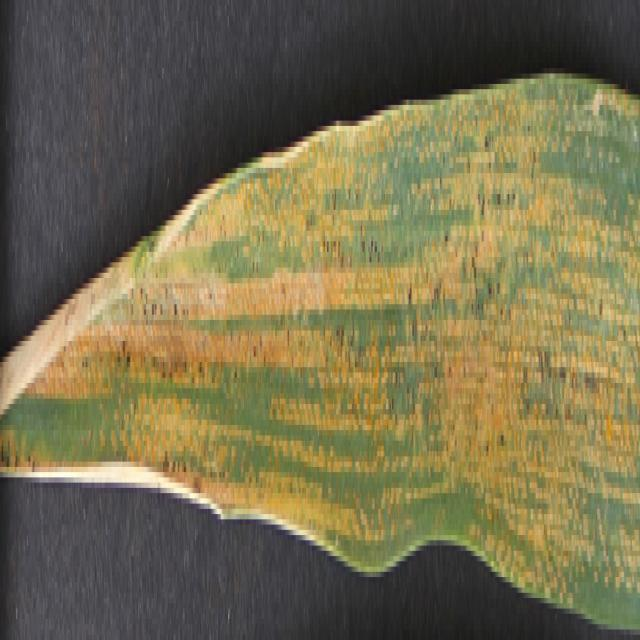leaf rust: (49, 73, 640, 588)
